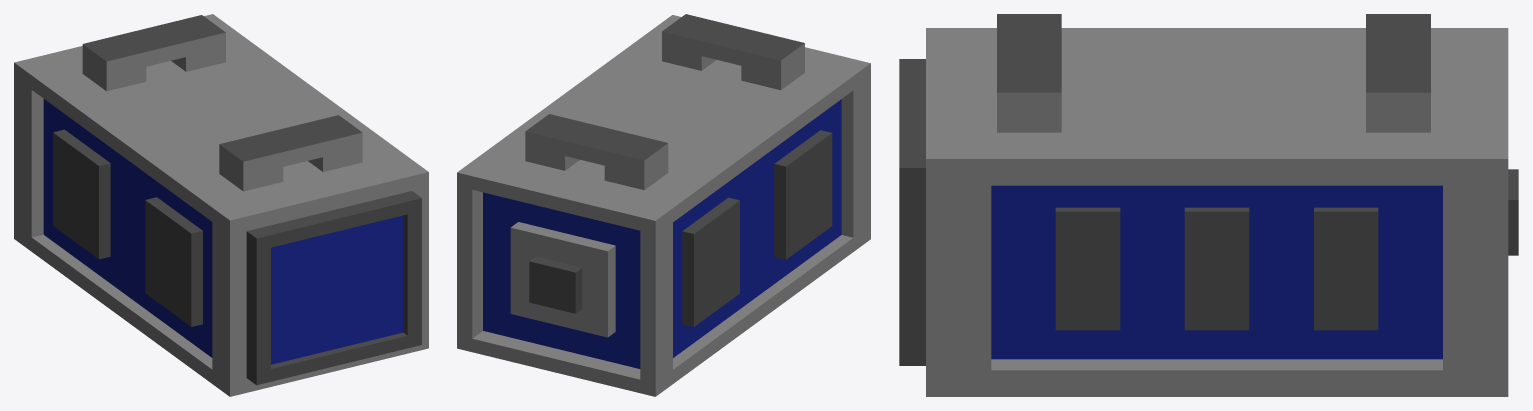
The model's file is shield-modul.glb.
The picture shows the model from 3 angles, left to right: view 1: azimuth 30°, elevation 25°; view 2: azimuth 150°, elevation 25°; view 3: azimuth 270°, elevation 25°; orthographic projection. The views are drawn at different scales.
Visible parts, largest first — view 1: shieldModul; view 2: shieldModul; view 3: shieldModul.
Boxes of the visible parts, box(x1,y1,x2,y2) form: shieldModul: box(14, 14, 428, 396); shieldModul: box(457, 14, 870, 396); shieldModul: box(899, 14, 1518, 396).
Bounding box in the file's own units: 1 × 0.991 × 2.
